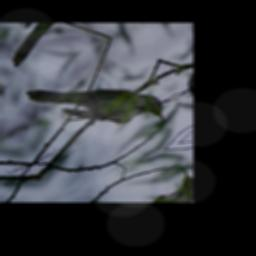Cuckoo: (22, 37, 169, 169)
